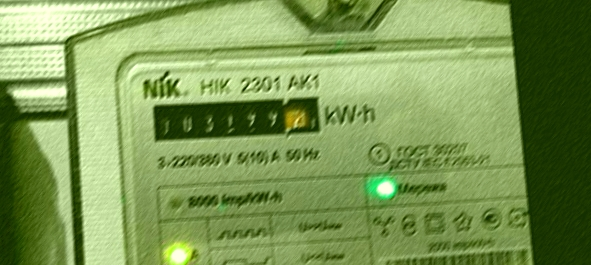0: (157, 113, 171, 135), (180, 111, 194, 132)
1: (224, 107, 236, 127)
3: (202, 112, 215, 132)
6: (292, 113, 303, 130)
9: (245, 106, 258, 127), (266, 106, 279, 126)
screen: (145, 85, 331, 155)
